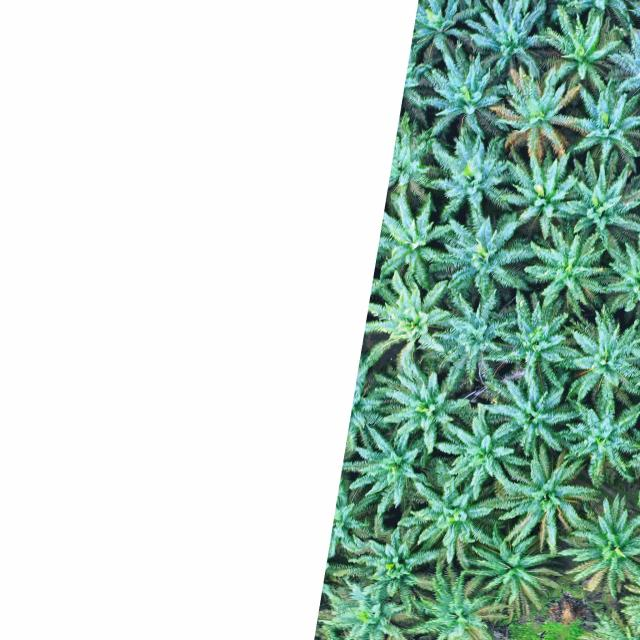Tree: (491, 449, 608, 565), (424, 214, 549, 308), (462, 518, 572, 624), (470, 368, 584, 470), (393, 458, 501, 565), (487, 59, 587, 160), (427, 402, 532, 498), (489, 143, 592, 239), (371, 366, 474, 462), (418, 45, 515, 145), (420, 129, 522, 223), (347, 519, 446, 615), (556, 302, 640, 414), (422, 284, 516, 382), (558, 493, 640, 601), (520, 217, 610, 314), (536, 7, 628, 101), (404, 565, 519, 640), (489, 290, 577, 388), (459, 0, 558, 87), (553, 76, 640, 174), (556, 147, 640, 240), (563, 395, 640, 494)
